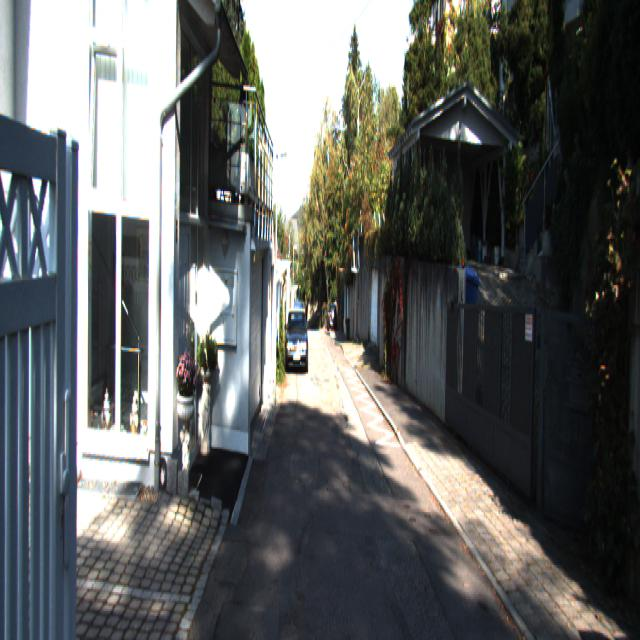Car: (286, 306, 308, 375)
